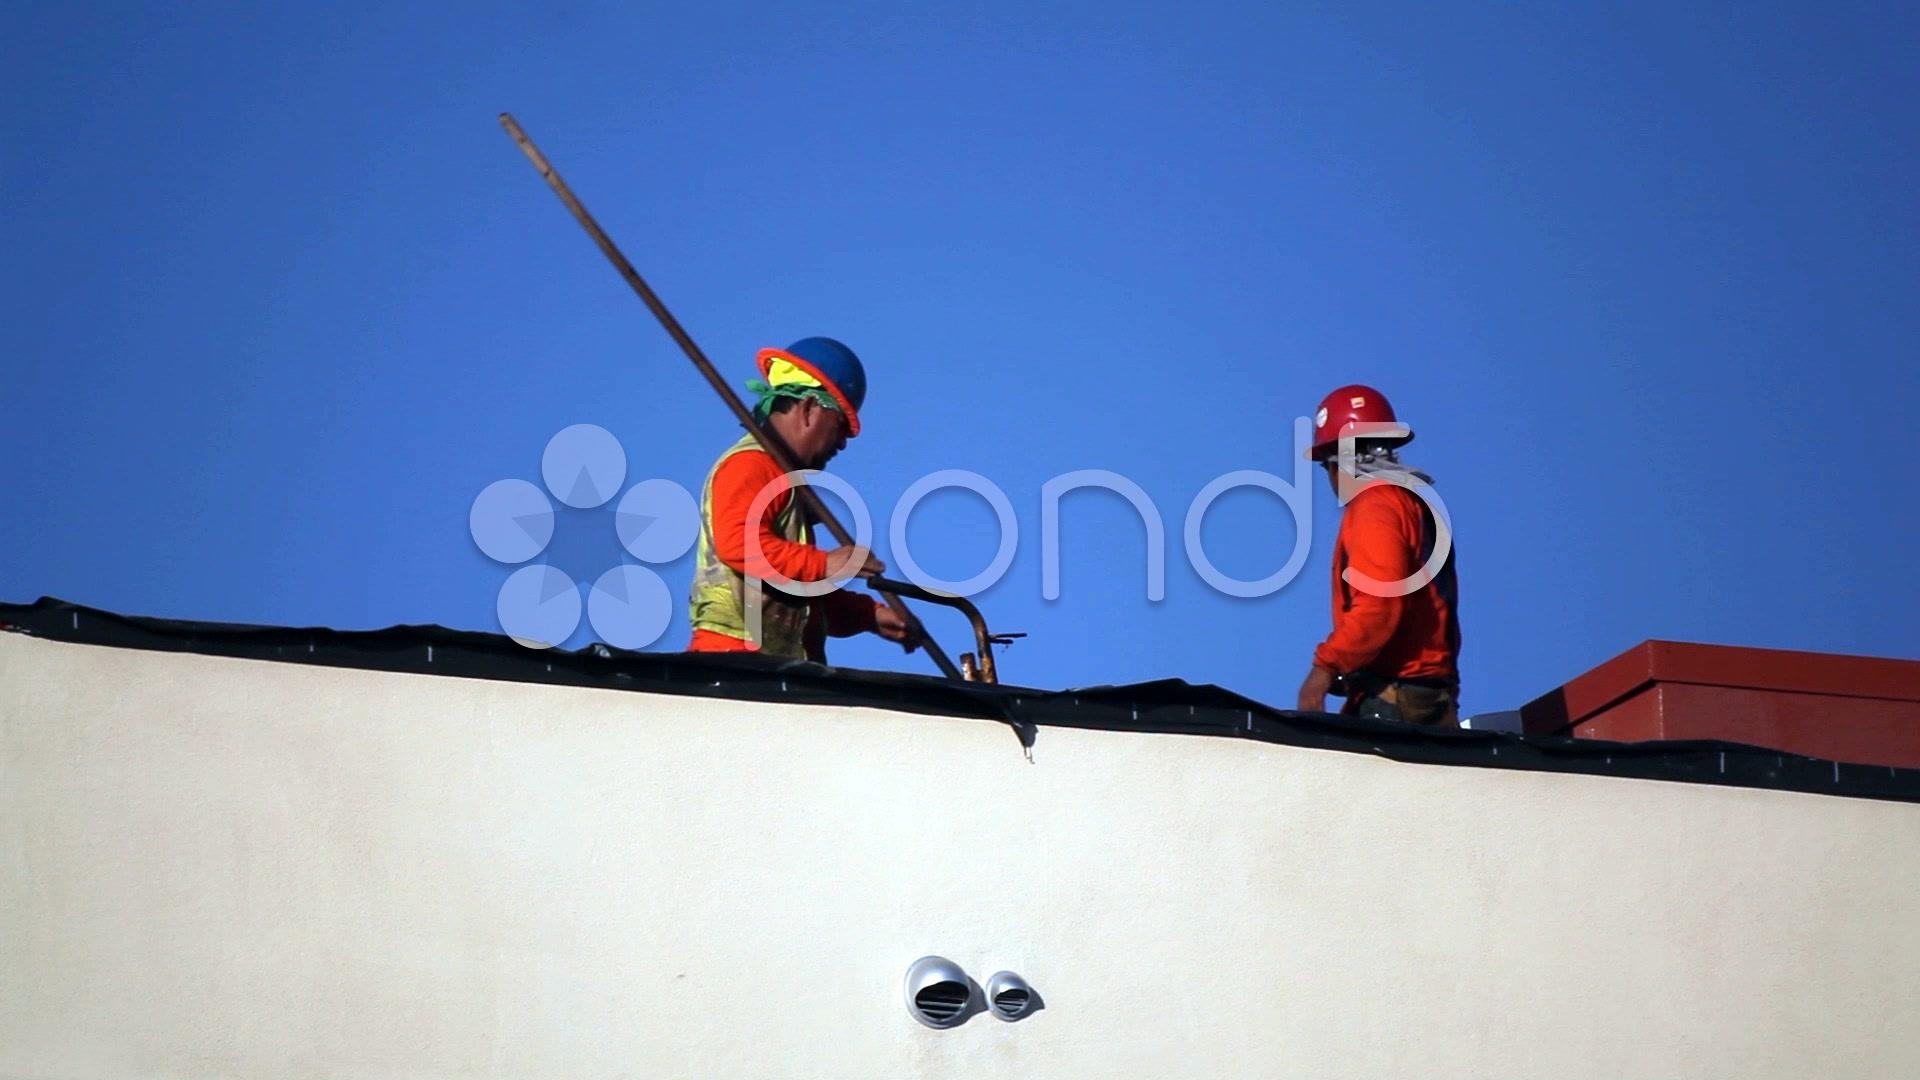hat: (738, 221, 898, 501), (1294, 334, 1484, 548)
no vest: (1251, 448, 1501, 674)
vest: (651, 381, 868, 718)
